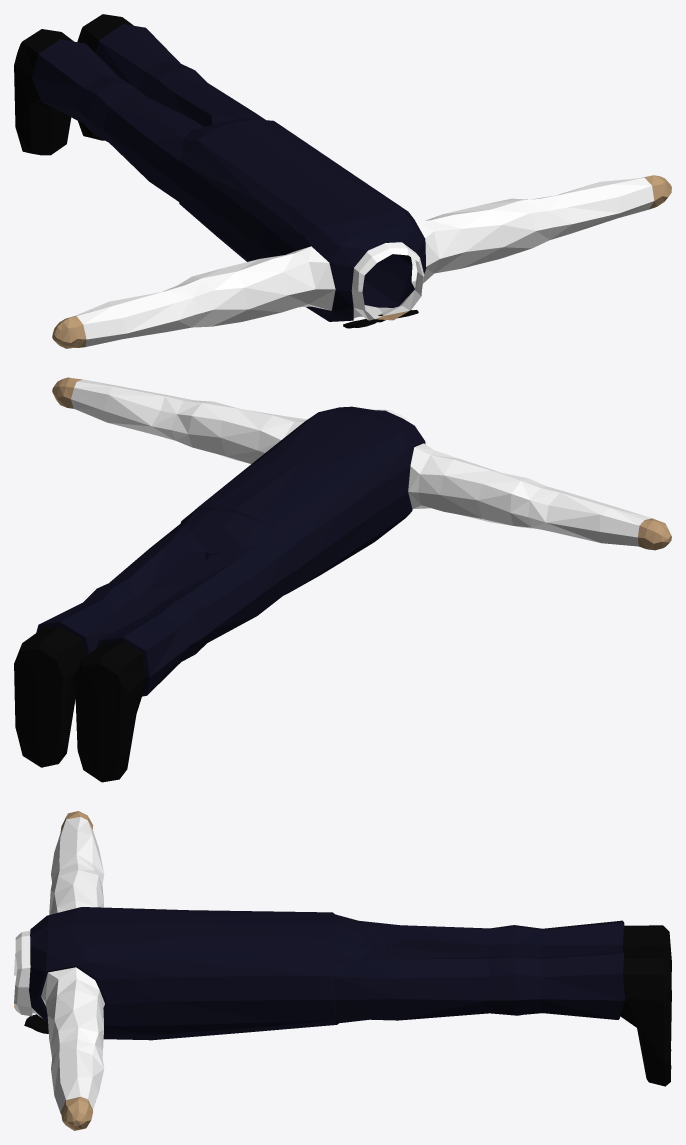
Rendered from CasinoClothes.glb.
The picture shows the model from 3 angles, top to bottom: view 1: azimuth 30°, elevation 25°; view 2: azimuth 150°, elevation 25°; view 3: azimuth 270°, elevation 25°; orthographic projection.
Parts seen in each view (by area): view 1: CasinoClothes; view 2: CasinoClothes; view 3: CasinoClothes.
Part boxes in pixels (box(x1,y1,x2,y2)): CasinoClothes: box(14, 14, 671, 348); CasinoClothes: box(14, 377, 671, 782); CasinoClothes: box(14, 811, 671, 1130).
Bounding box in the file's own units: 1.21 × 0.2744 × 1.11.
1 material, 1 textured.
